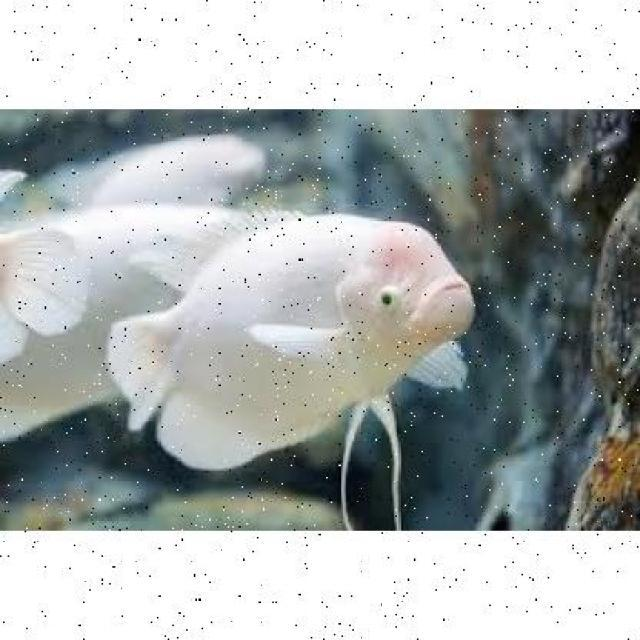gurame: (116, 213, 476, 458)
